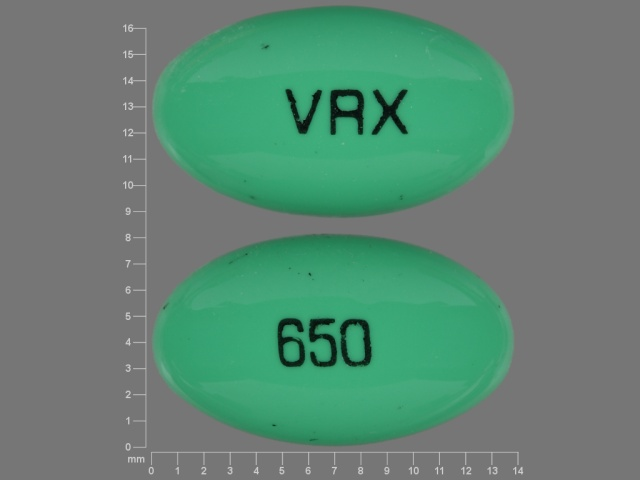0: (339, 319, 375, 371)
5: (304, 318, 337, 370)
6: (273, 315, 309, 369)
R: (322, 84, 368, 144)
V: (282, 84, 324, 139)
X: (367, 87, 415, 141)
